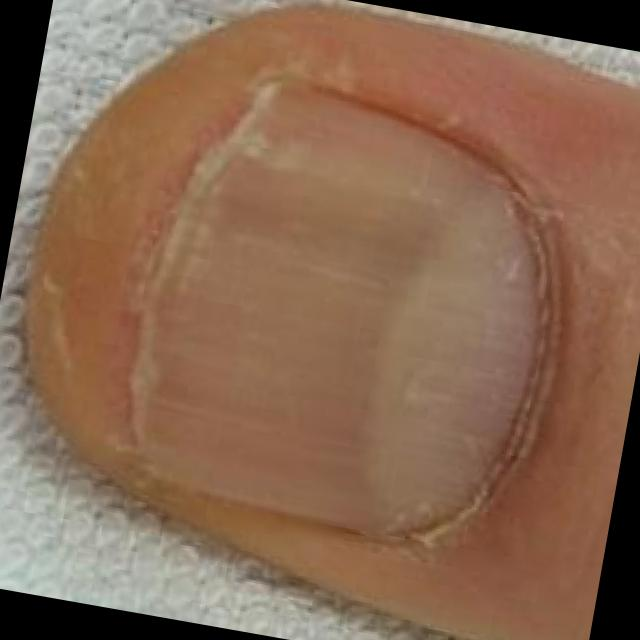Nail: (127, 76, 538, 542)
